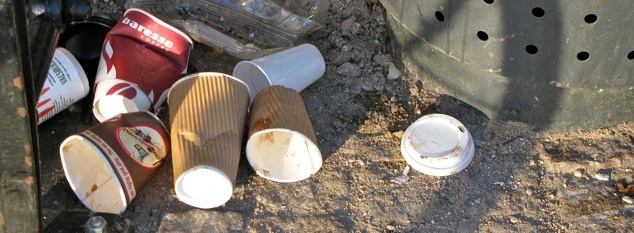cup: (162, 66, 254, 217), (57, 104, 171, 221), (91, 4, 192, 115), (245, 83, 332, 192), (228, 39, 336, 87)
